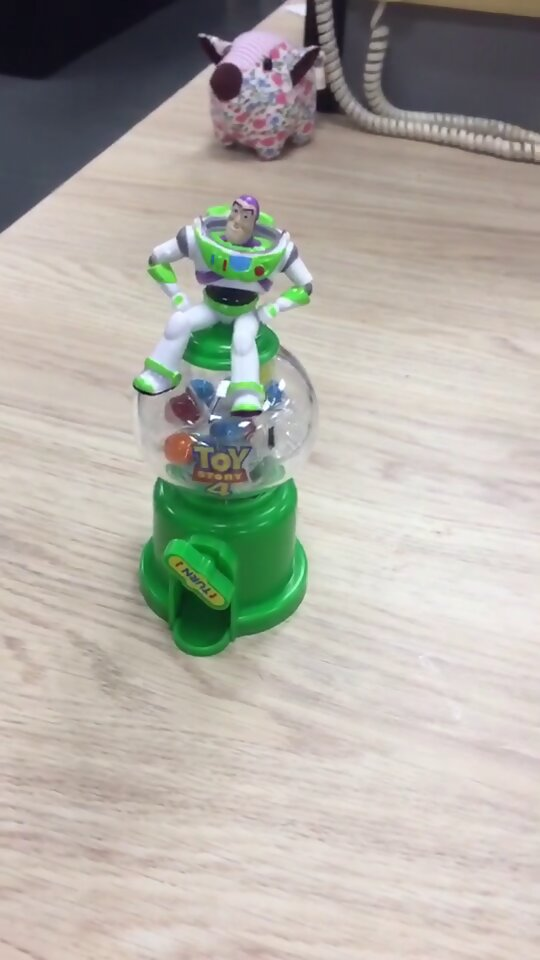buzz: (129, 178, 321, 663)
